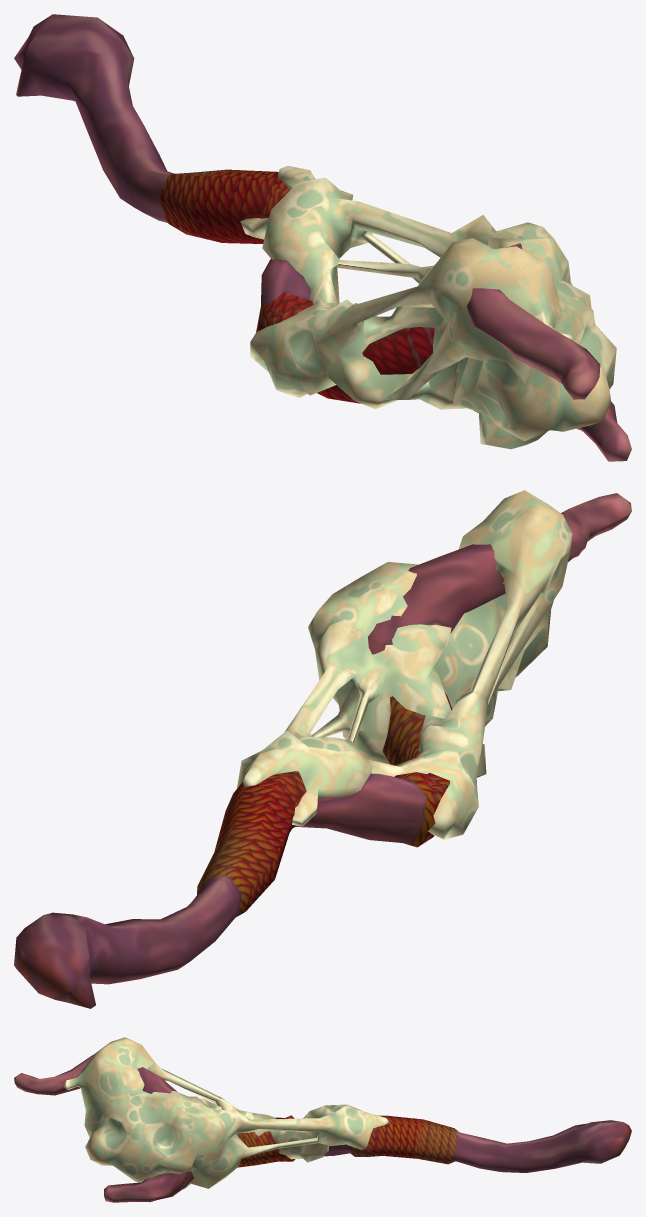
Rendered from torchChem.fbx.
3 renders of one model, top to bottom at view 1: azimuth 30°, elevation 25°; view 2: azimuth 150°, elevation 25°; view 3: azimuth 270°, elevation 25°, orthographic. The views are drawn at different scales.
Parts seen in each view (by area): view 1: torchChem_LOD0; view 2: torchChem_LOD0; view 3: torchChem_LOD0.
Boxes of the visible parts, x1,y1,x2,y2 form: torchChem_LOD0: (14, 14, 631, 461); torchChem_LOD0: (14, 490, 631, 1008); torchChem_LOD0: (14, 1037, 631, 1202).
Size of what is drawn, in the model's own units: 0.1647 by 0.1668 by 0.7171.
